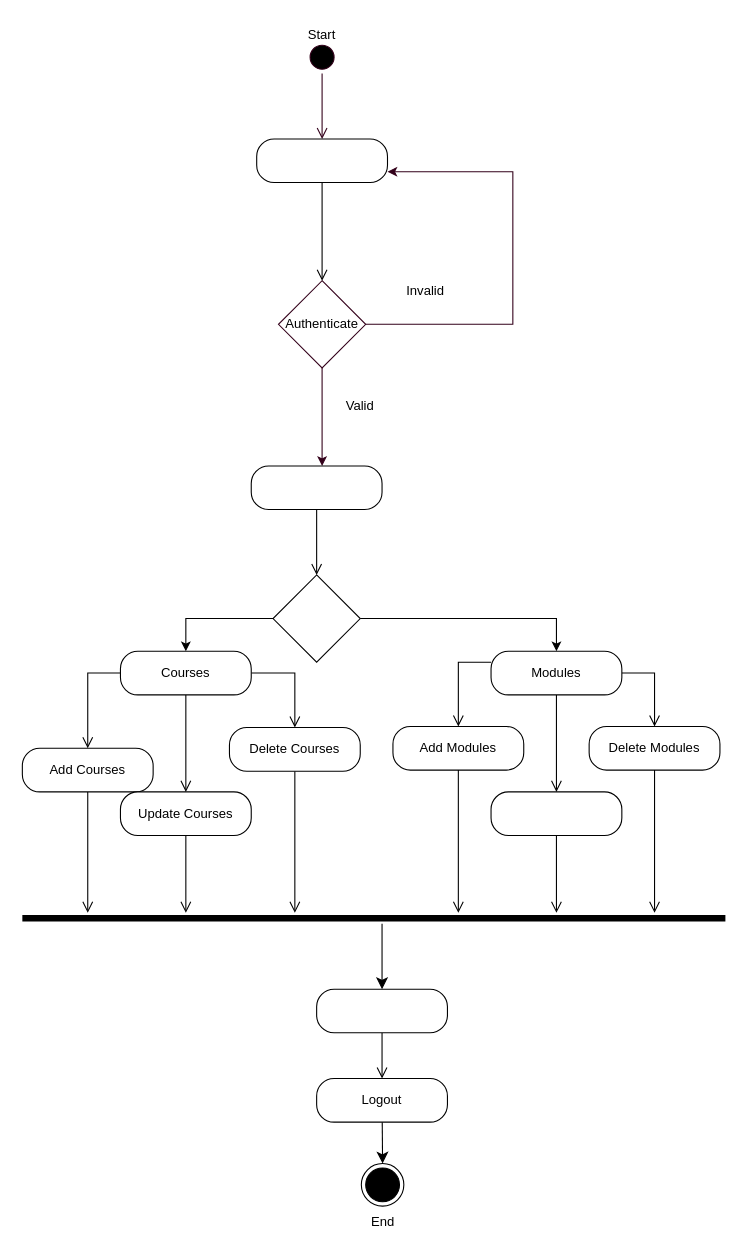
Some shapes in this 747 by 1257 pixel diagram are drawn without their labels. Here are the shapes that lost their labels. From the top down, the centre of each, then its label:
point (321, 160): Login
point (316, 487): Manages
point (556, 813): Update Modules
point (381, 1010): Generate Reports
